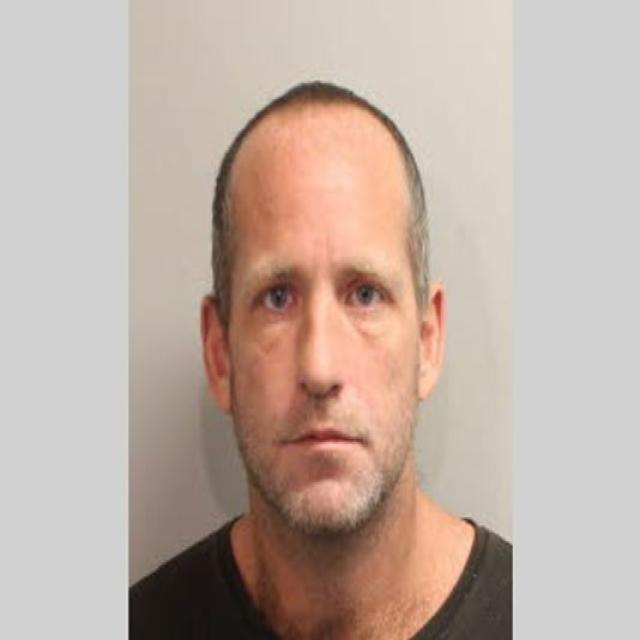human: (193, 84, 484, 640)
